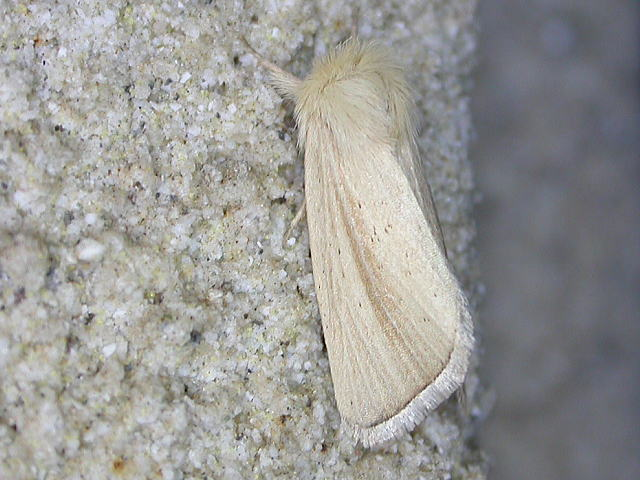Noctuidae: (239, 35, 475, 461)
